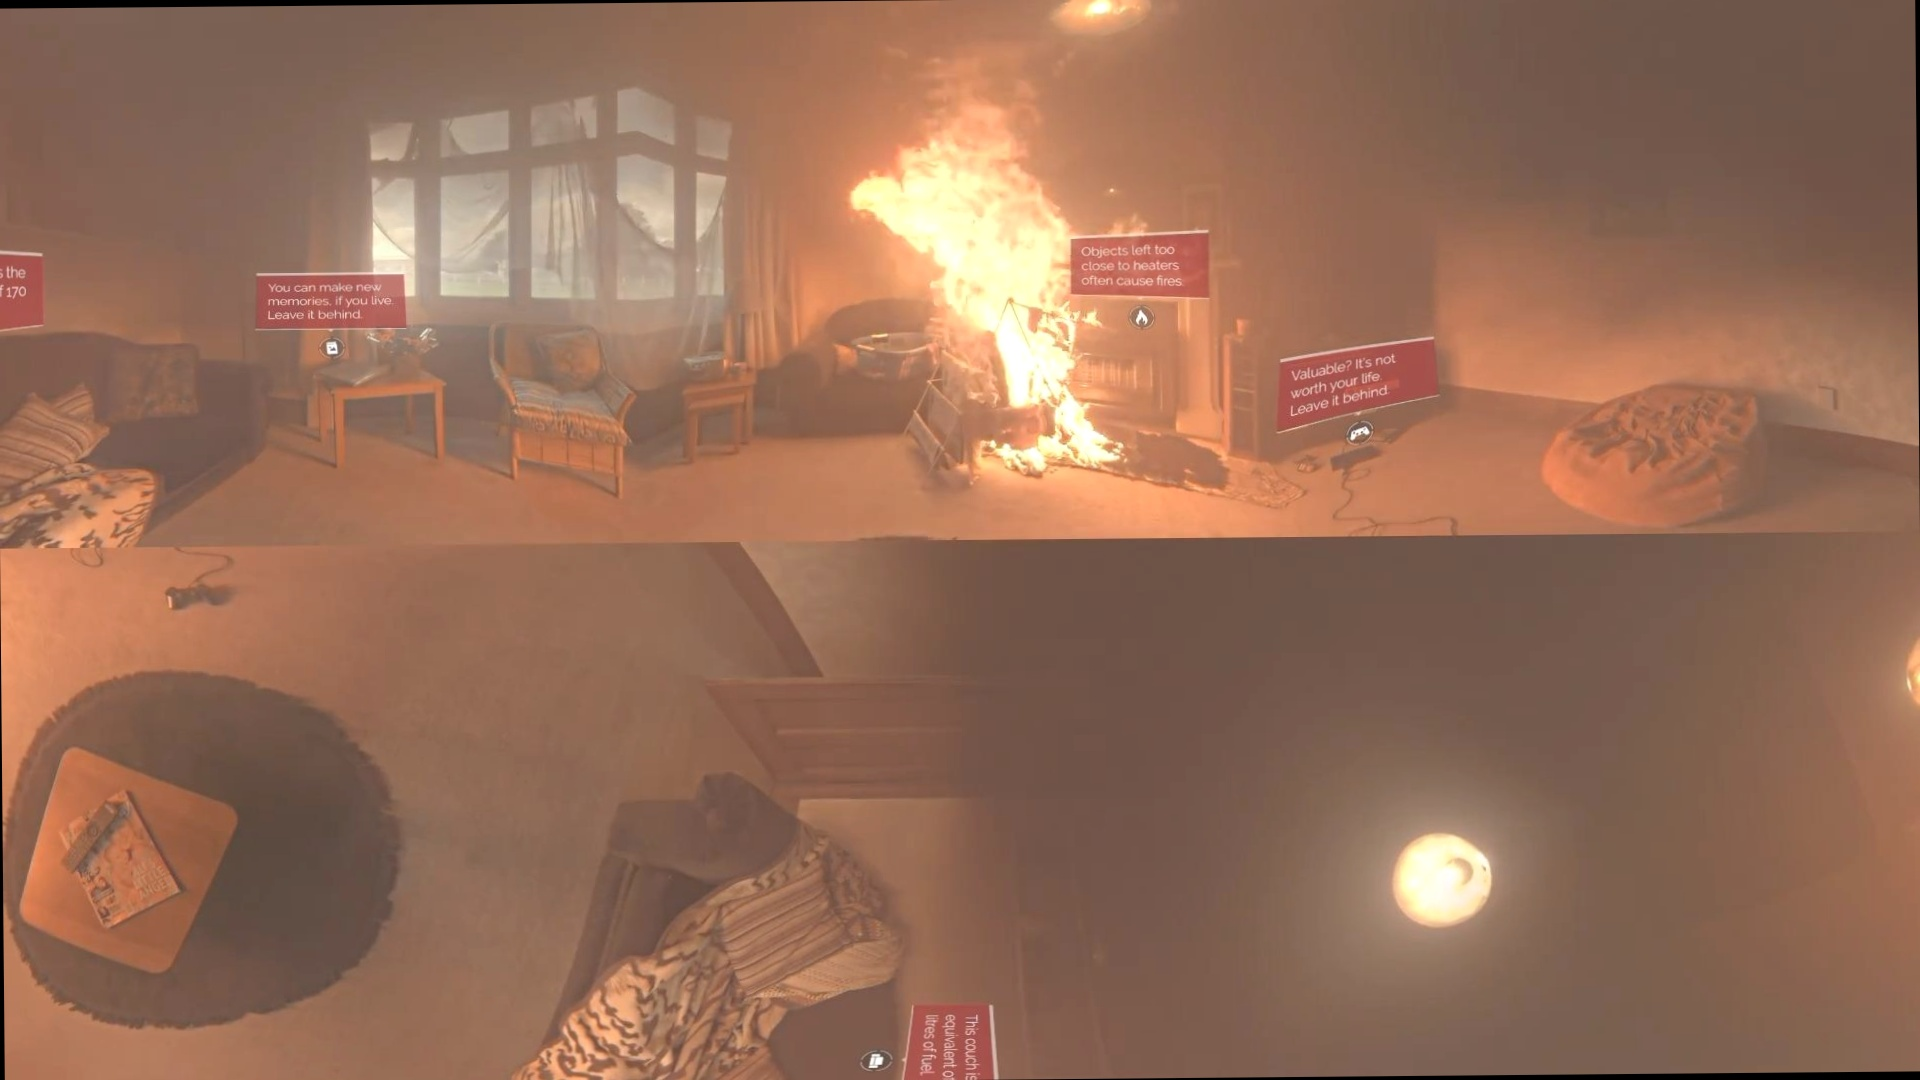fire: (861, 76, 1142, 422)
